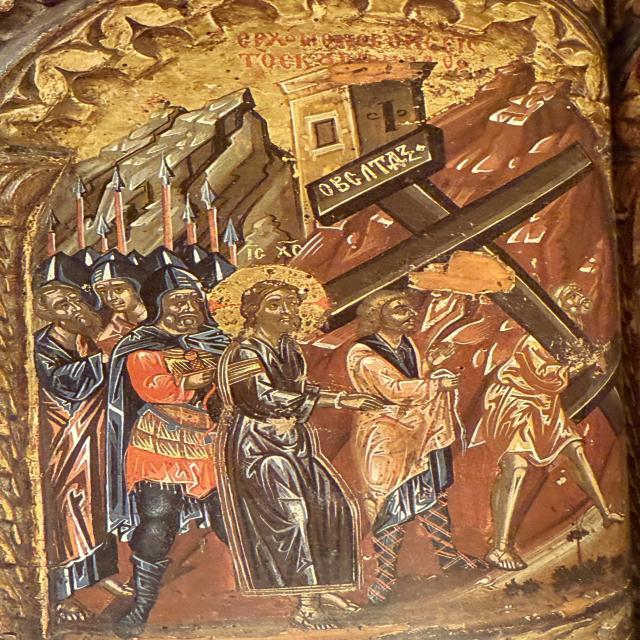aura: (203, 267, 331, 344)
christ: (206, 267, 375, 631)
spear: (108, 164, 141, 254), (155, 153, 179, 249), (200, 180, 222, 253), (71, 176, 91, 250), (183, 193, 203, 247), (224, 217, 244, 261), (43, 210, 63, 252), (96, 212, 114, 254)
sword: (174, 352, 228, 420)
